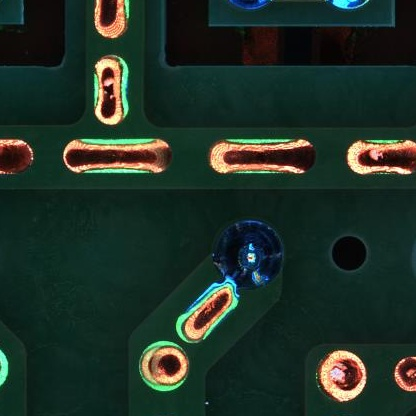spot: (213, 221, 286, 288), (137, 339, 191, 390)
